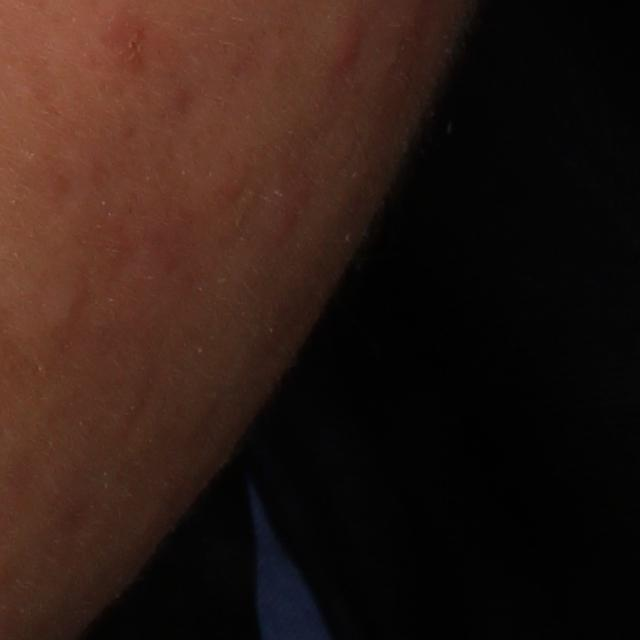papule: (323, 11, 374, 85)
